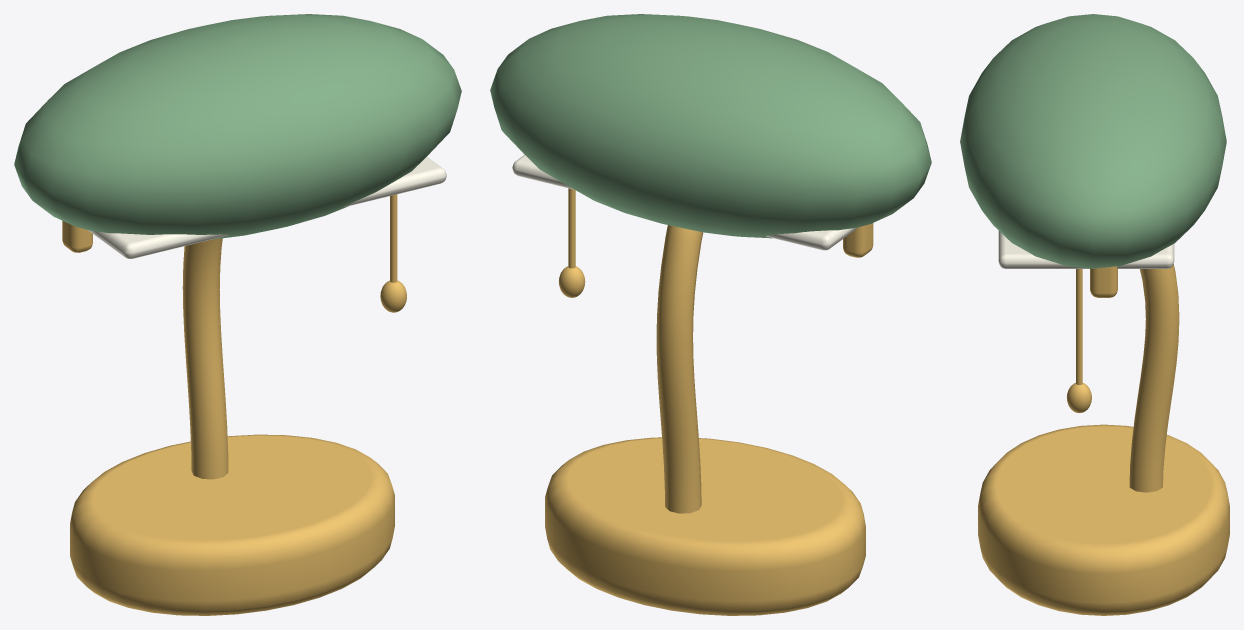
The model's file is lampTableBanker.glb.
3 renders of one model, left to right at view 1: azimuth 30°, elevation 25°; view 2: azimuth 150°, elevation 25°; view 3: azimuth 270°, elevation 25°, orthographic. The views are drawn at different scales.
Parts seen in each view (by area): view 1: Green glass shade, Desk lamp oval base, Banker lamp stem, Glass shade lit underside, Shade brass bracket, Lamp pull chain, Pull chain bead; view 2: Green glass shade, Desk lamp oval base, Banker lamp stem, Glass shade lit underside, Shade brass bracket, Pull chain bead, Lamp pull chain; view 3: Green glass shade, Desk lamp oval base, Banker lamp stem, Glass shade lit underside, Shade brass bracket.001, Lamp pull chain, Pull chain bead.
Part boxes in pixels (bbox=[...]): Green glass shade: bbox=[14, 14, 461, 239]; Desk lamp oval base: bbox=[70, 434, 394, 615]; Banker lamp stem: bbox=[182, 238, 228, 479]; Glass shade lit underside: bbox=[88, 157, 446, 258]; Shade brass bracket: bbox=[62, 221, 92, 252]; Lamp pull chain: bbox=[390, 194, 397, 282]; Pull chain bead: bbox=[380, 280, 406, 312]; Green glass shade: bbox=[490, 14, 931, 238]; Desk lamp oval base: bbox=[545, 437, 865, 615]; Banker lamp stem: bbox=[656, 225, 703, 513]; Glass shade lit underside: bbox=[512, 154, 856, 250]; Shade brass bracket: bbox=[843, 223, 873, 257]; Pull chain bead: bbox=[558, 266, 585, 297]; Lamp pull chain: bbox=[568, 188, 575, 268]; Green glass shade: bbox=[960, 14, 1226, 268]; Desk lamp oval base: bbox=[978, 424, 1229, 615]; Banker lamp stem: bbox=[1129, 264, 1179, 492]; Glass shade lit underside: bbox=[998, 231, 1174, 268]; Shade brass bracket.001: bbox=[1090, 266, 1117, 297]; Lamp pull chain: bbox=[1076, 269, 1082, 384]; Pull chain bead: bbox=[1066, 383, 1091, 413].
Size of the model in its own units: 0.66 by 0.78 by 0.3844.
